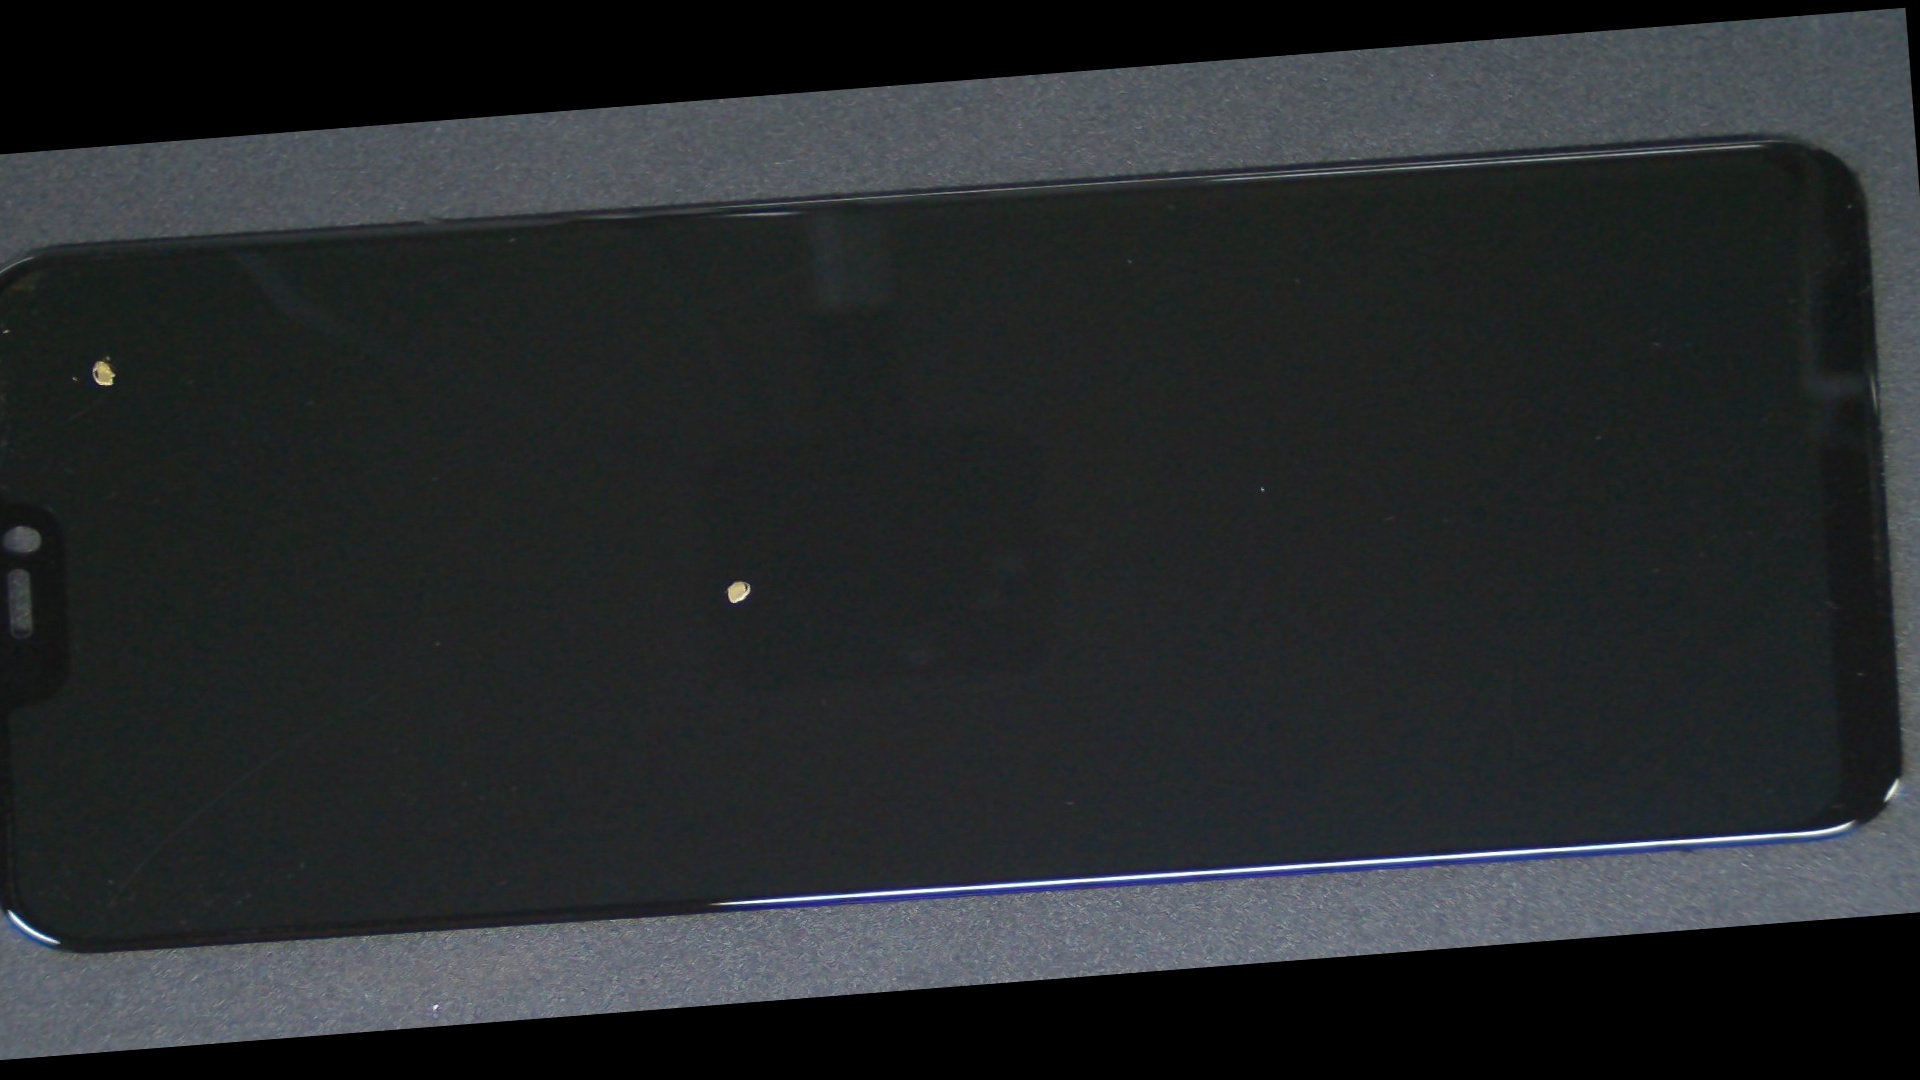oil: (298, 303, 1171, 855), (0, 244, 225, 473)
